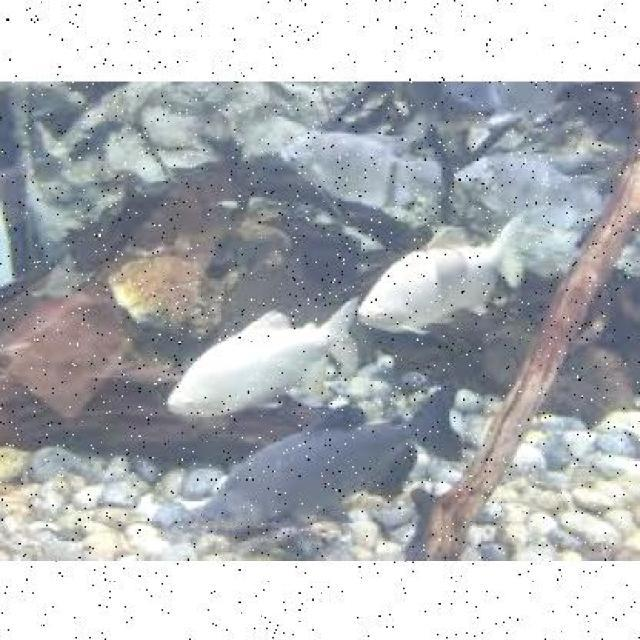gurame: (207, 384, 464, 536), (172, 322, 345, 416), (358, 238, 528, 324)
